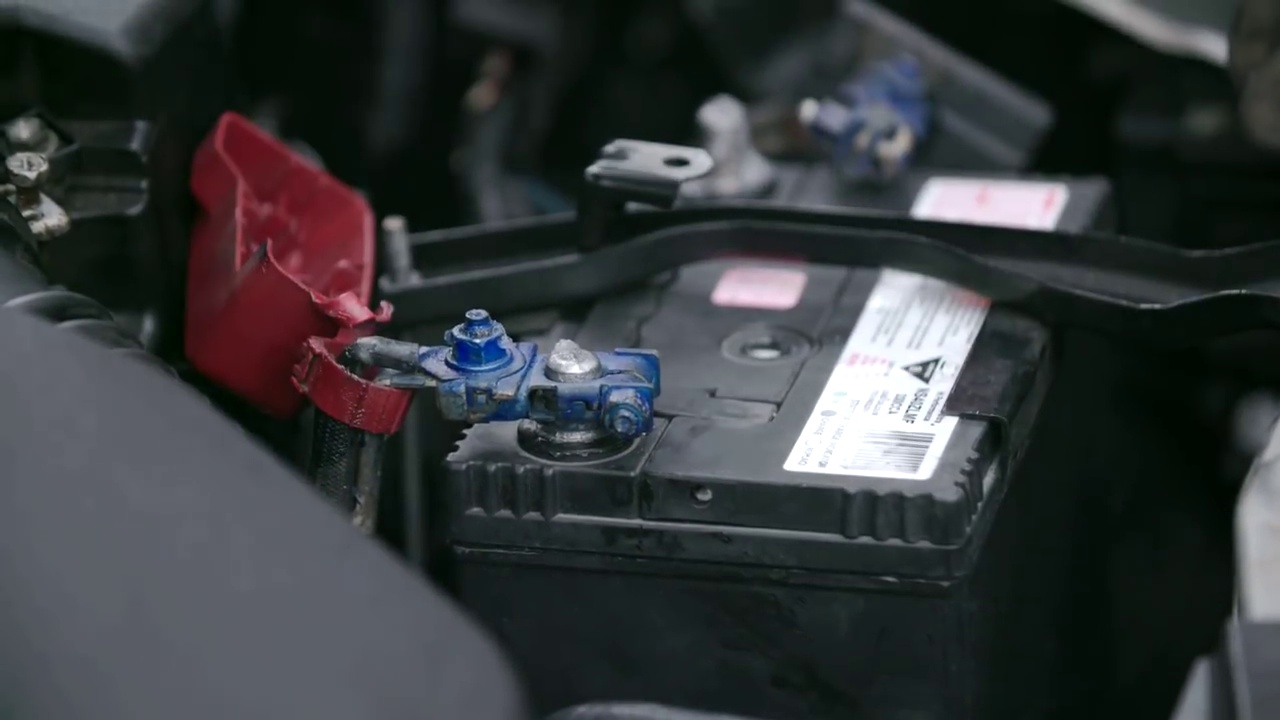battery: (457, 136, 1112, 520)
pos_connected: (200, 194, 674, 461)
